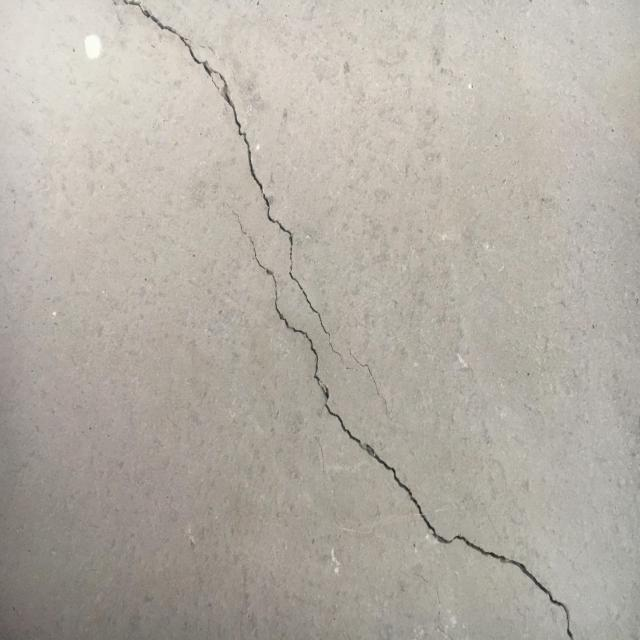SurfaceCrack: (17, 0, 609, 639)
